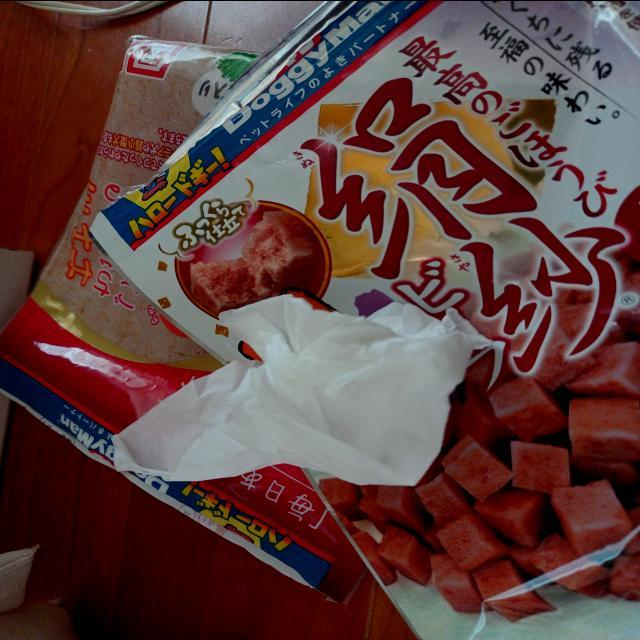Paper: (93, 276, 476, 486)
